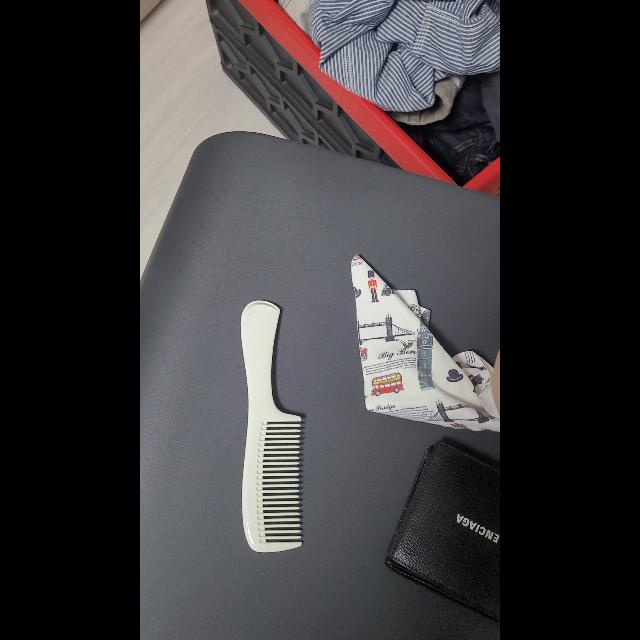COMB: (240, 300, 304, 552)
Glasses cleaning cloth: (350, 255, 500, 433)
WALLET: (384, 439, 500, 623)
